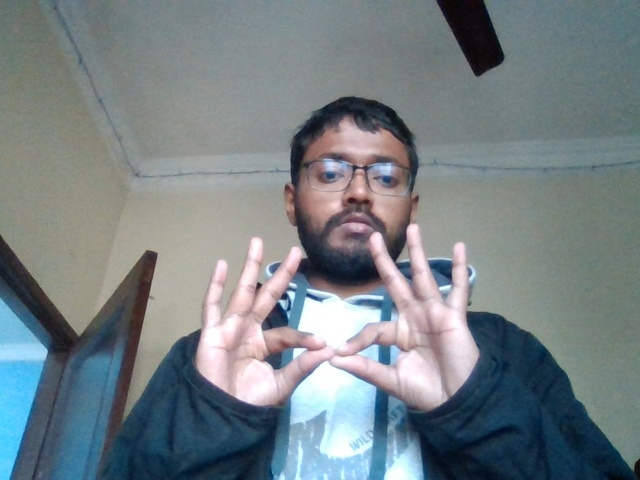family: (192, 223, 484, 413)
